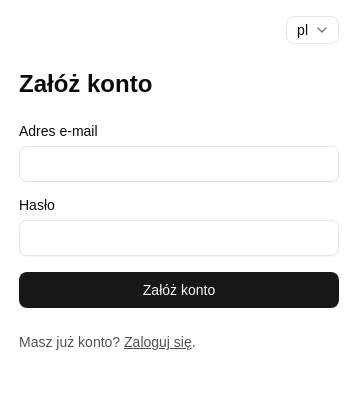
Test: RegisterPage › puts a validation message from the server next to its field
The width and height of the screenshot is (359, 395).
Step 1. Type "taken@example.com" into the field labelled "Adres e-mail" → (179, 164), box left=19, top=146, right=339, bottom=182
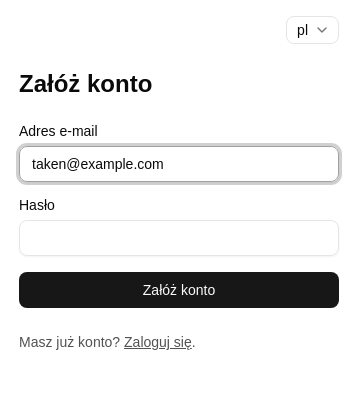
Step 2. Type "correcthorse" into the password field labelled "Hasło" → (179, 238), box left=19, top=220, right=339, bottom=256
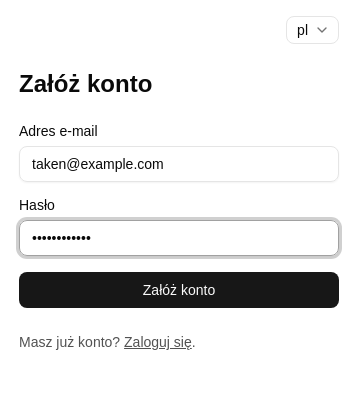
Step 3. Click the button "Załóż konto" → (179, 290), box left=19, top=272, right=339, bottom=308
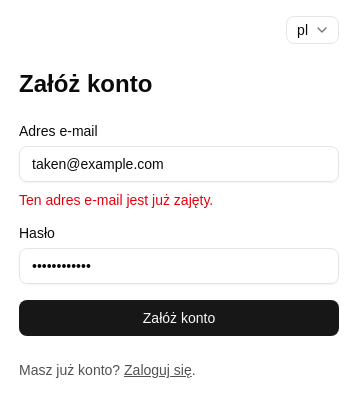
Result: the text "Ten adres e-mail jest już zajęty." is shown at left=19, top=192, right=213, bottom=208
